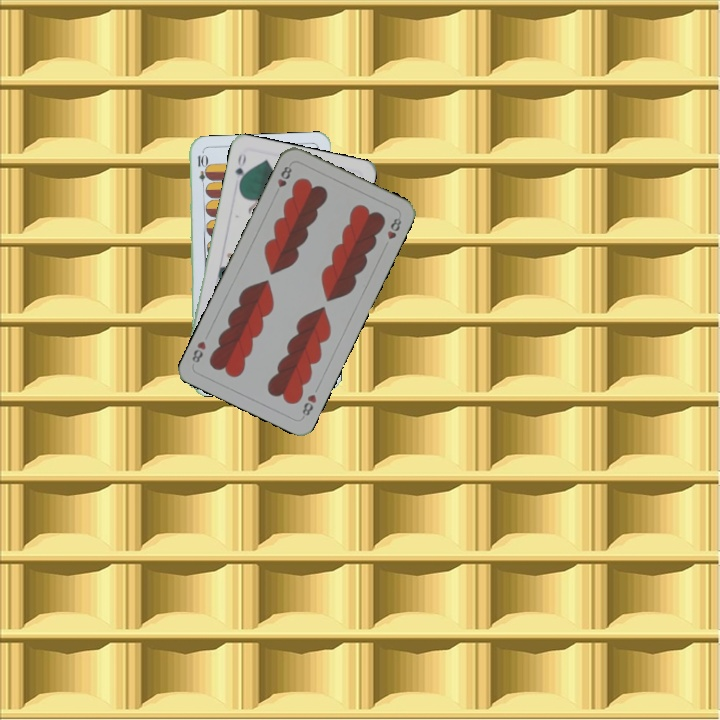E10: (193, 151, 208, 191)
GO: (231, 149, 249, 190)
H8: (271, 161, 294, 198), (298, 390, 319, 421)
